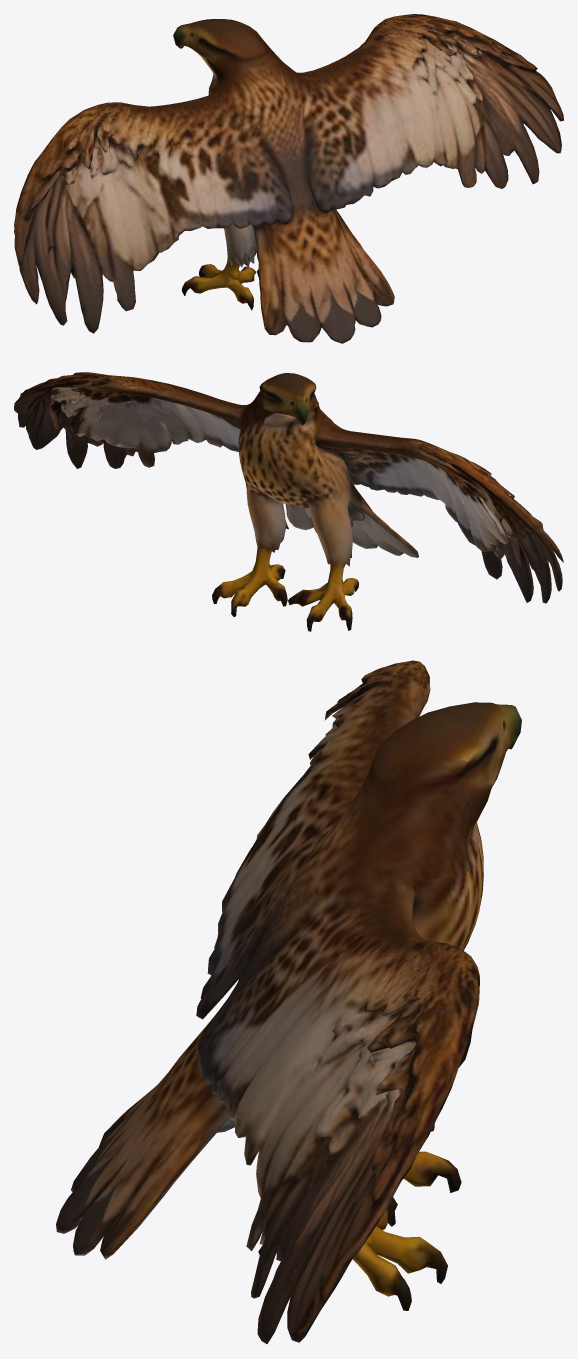
File: hawk.glb
The picture shows the model from 3 angles, top to bottom: view 1: azimuth 30°, elevation 25°; view 2: azimuth 150°, elevation 25°; view 3: azimuth 270°, elevation 25°; orthographic projection. The views are drawn at different scales.
Visible parts, largest first — view 1: tripo_node_cb65c08c-4ef2-4974-aea9-954b9c86b1d6; view 2: tripo_node_cb65c08c-4ef2-4974-aea9-954b9c86b1d6; view 3: tripo_node_cb65c08c-4ef2-4974-aea9-954b9c86b1d6.
Boxes of the visible parts, x1,y1,x2,y2 form: tripo_node_cb65c08c-4ef2-4974-aea9-954b9c86b1d6: [14, 14, 563, 343]; tripo_node_cb65c08c-4ef2-4974-aea9-954b9c86b1d6: [14, 372, 563, 631]; tripo_node_cb65c08c-4ef2-4974-aea9-954b9c86b1d6: [56, 660, 521, 1343].
Bounding box in the file's own units: 1.1 × 0.5 × 0.412.
Materials: 1 (1 with a texture image).
